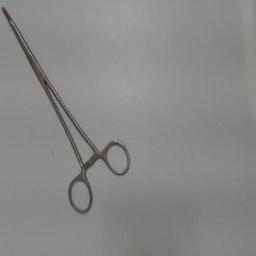Lahey Forceps: (0, 2, 136, 218)
